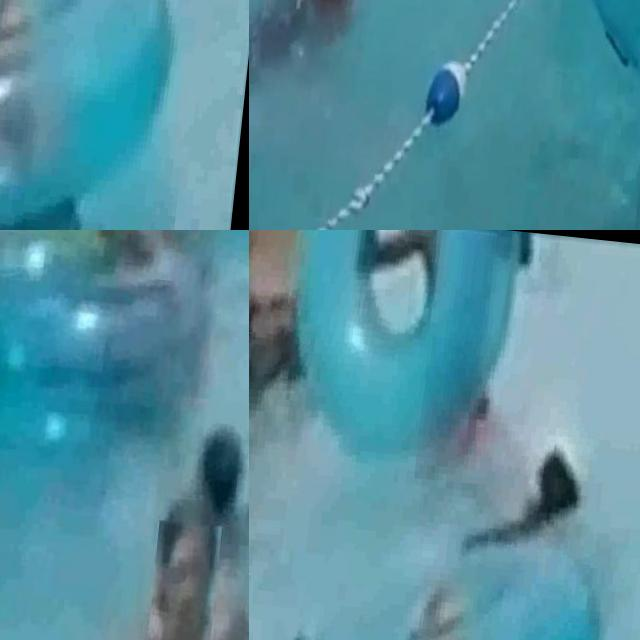drowning: (440, 386, 622, 550), (249, 0, 395, 105), (189, 408, 249, 527)
swimming: (249, 230, 324, 434), (75, 230, 195, 310), (144, 519, 223, 640), (216, 593, 249, 640)
